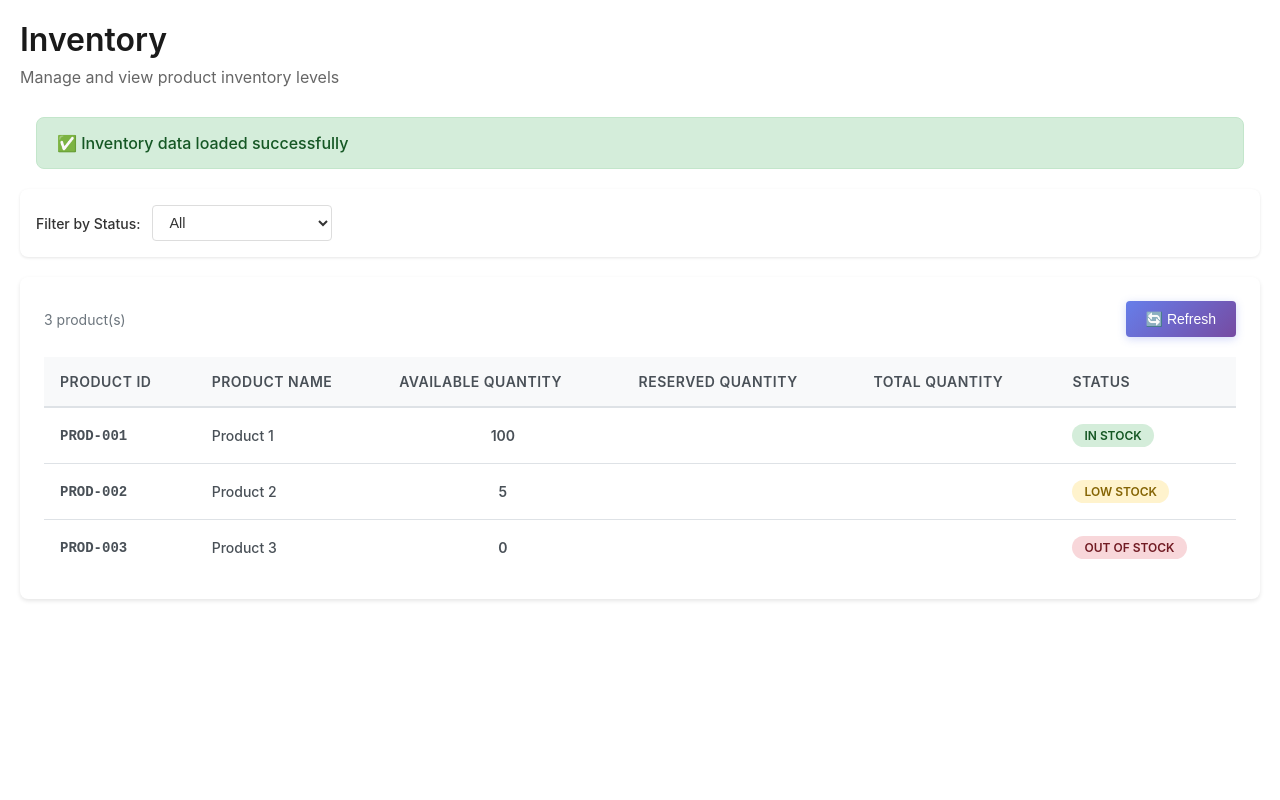
Test: InventoryPage Component › displays error notification when refresh fails
# Click refresh button
Step 1. Click the button "🔄 Refresh" → (1181,319), box [1126, 301, 1236, 337]
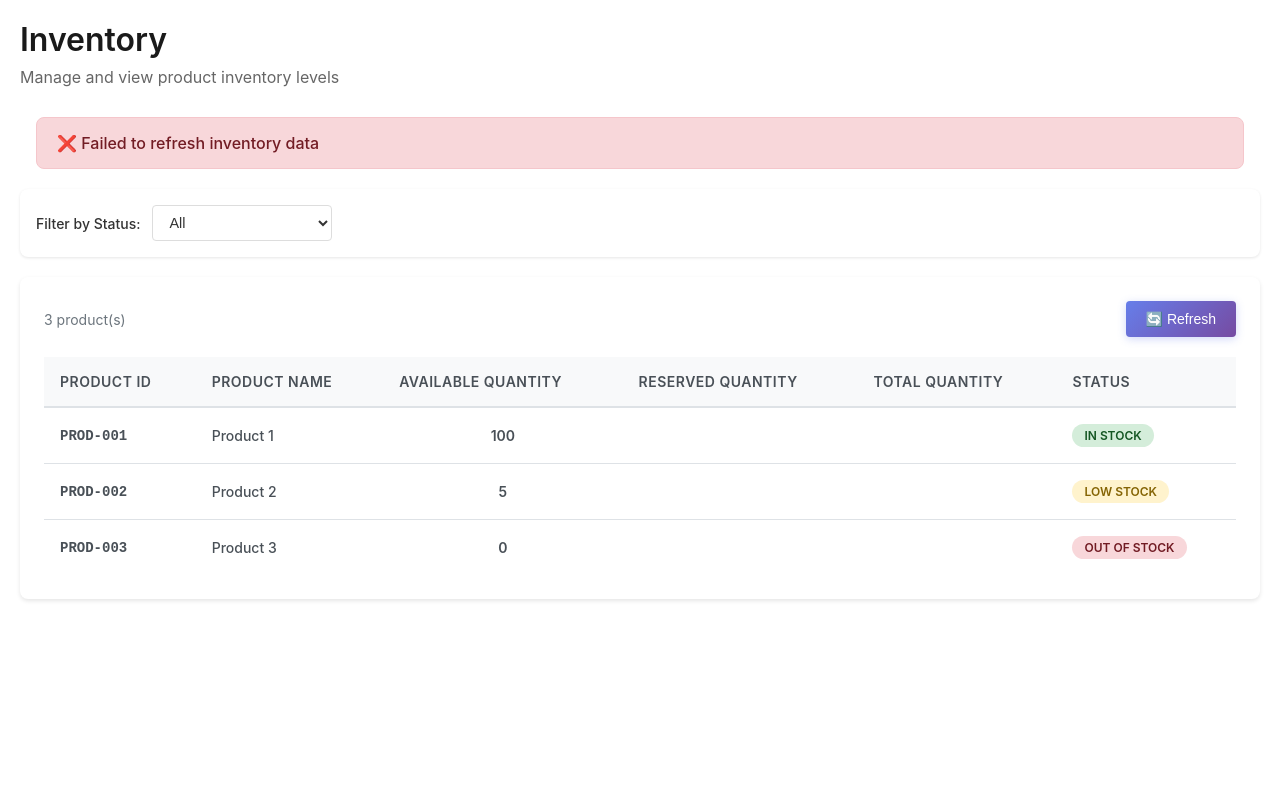
expect the text "❌ Failed to refresh inventory data" is shown: met, box [36, 117, 1244, 169]
